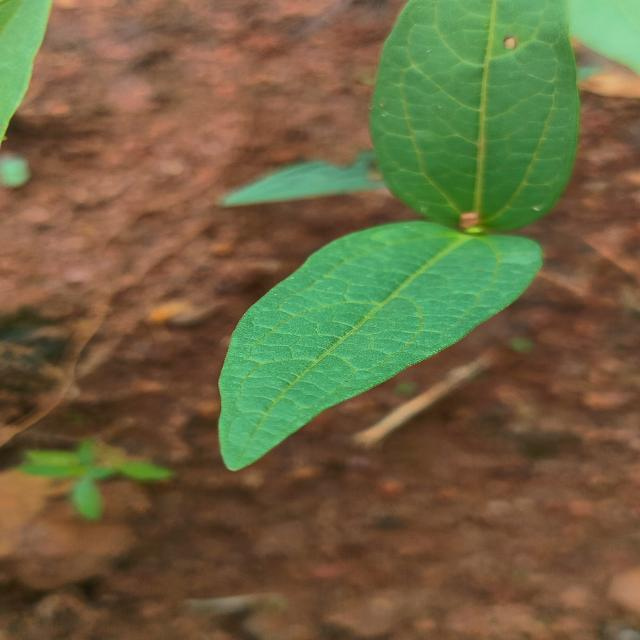Black gram_healthy: (221, 218, 545, 472), (374, 0, 579, 235)
